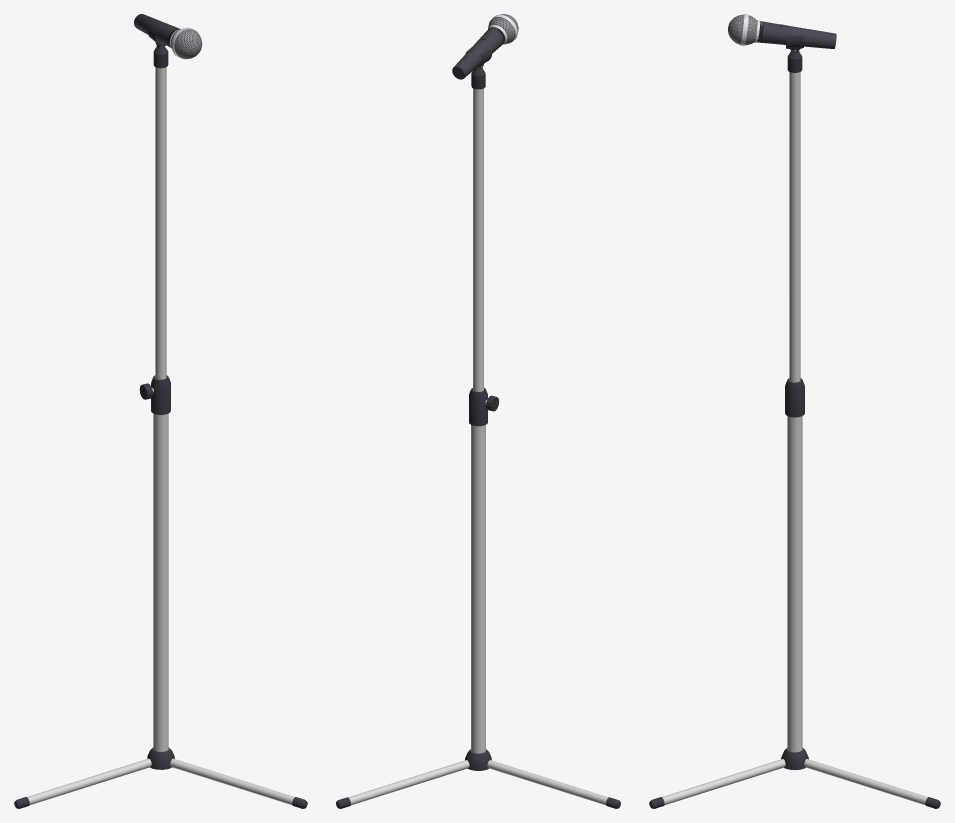
Rendered from mic 1.fbx.
3 views of the same model, side by side, from view 1: azimuth 30°, elevation 25°; view 2: azimuth 150°, elevation 25°; view 3: azimuth 270°, elevation 25° (orthographic). The views are drawn at different scales.
Visible parts, largest first — view 1: stand_sita, sutand_ue, mic; view 2: stand_sita, sutand_ue, mic; view 3: stand_sita, sutand_ue, mic.
Part boxes in pixels (bbox=[...]): stand_sita: bbox=[14, 375, 307, 808]; sutand_ue: bbox=[153, 46, 168, 379]; mic: bbox=[134, 14, 202, 59]; stand_sita: bbox=[336, 387, 620, 808]; sutand_ue: bbox=[471, 67, 485, 391]; mic: bbox=[452, 14, 518, 79]; stand_sita: bbox=[649, 378, 940, 808]; sutand_ue: bbox=[787, 51, 802, 382]; mic: bbox=[728, 14, 836, 48].
Bounding box in the file's own units: 61.87 × 204 × 71.19.
2 materials, 2 textured.
